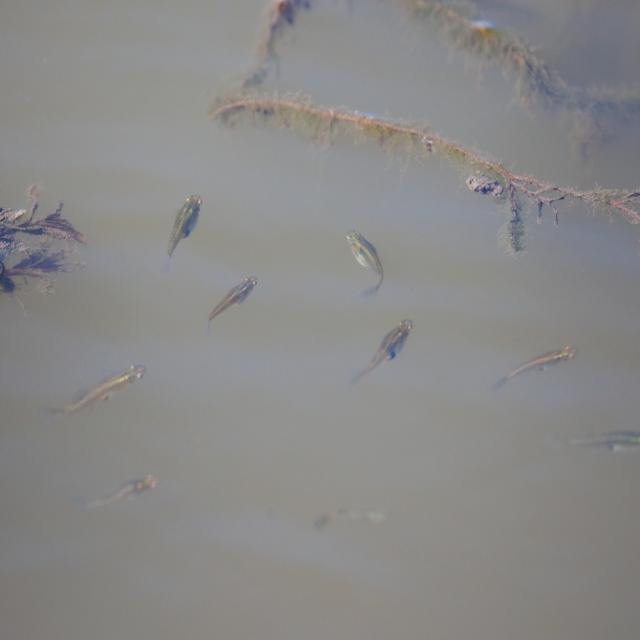Sivrisinek Baligi: (44, 361, 146, 420), (350, 317, 414, 386), (500, 338, 574, 391), (158, 191, 206, 265), (205, 272, 258, 334), (88, 472, 156, 512), (344, 226, 384, 287)
